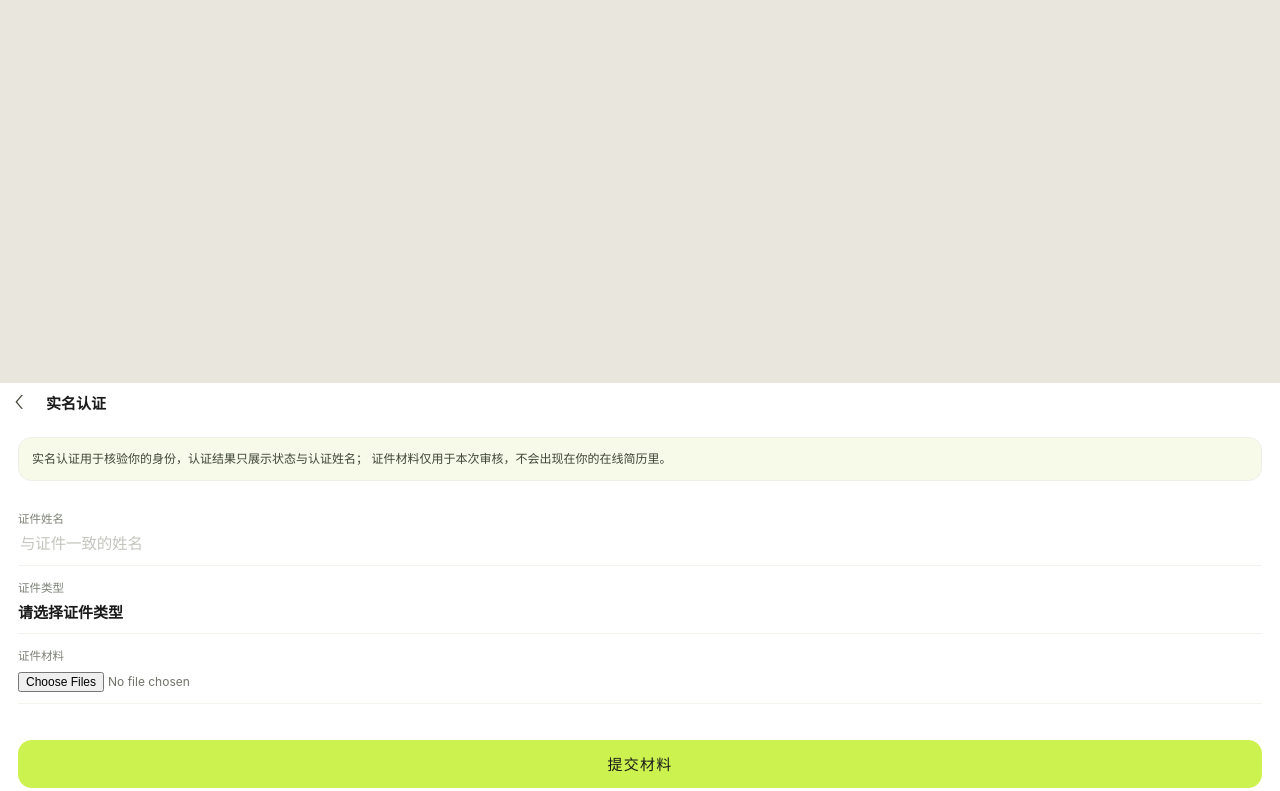
Test: 候选实名认证 · 读取态与四状态渲染 › unverified 是空姓名、空证件类型、空文件表单
This screenshot has width=1280, height=791.
(page scrolled)
Expected: the field named "证件姓名" is empty, [18, 533, 1262, 554]
Expected: the dropdown named "证件类型" shows "请选择证件类型", [18, 604, 1262, 621]
Note: 空表单提交走客户端校验，零 operation
Click the button "提交材料". click: x=640, y=764
box: [18, 740, 1262, 788]
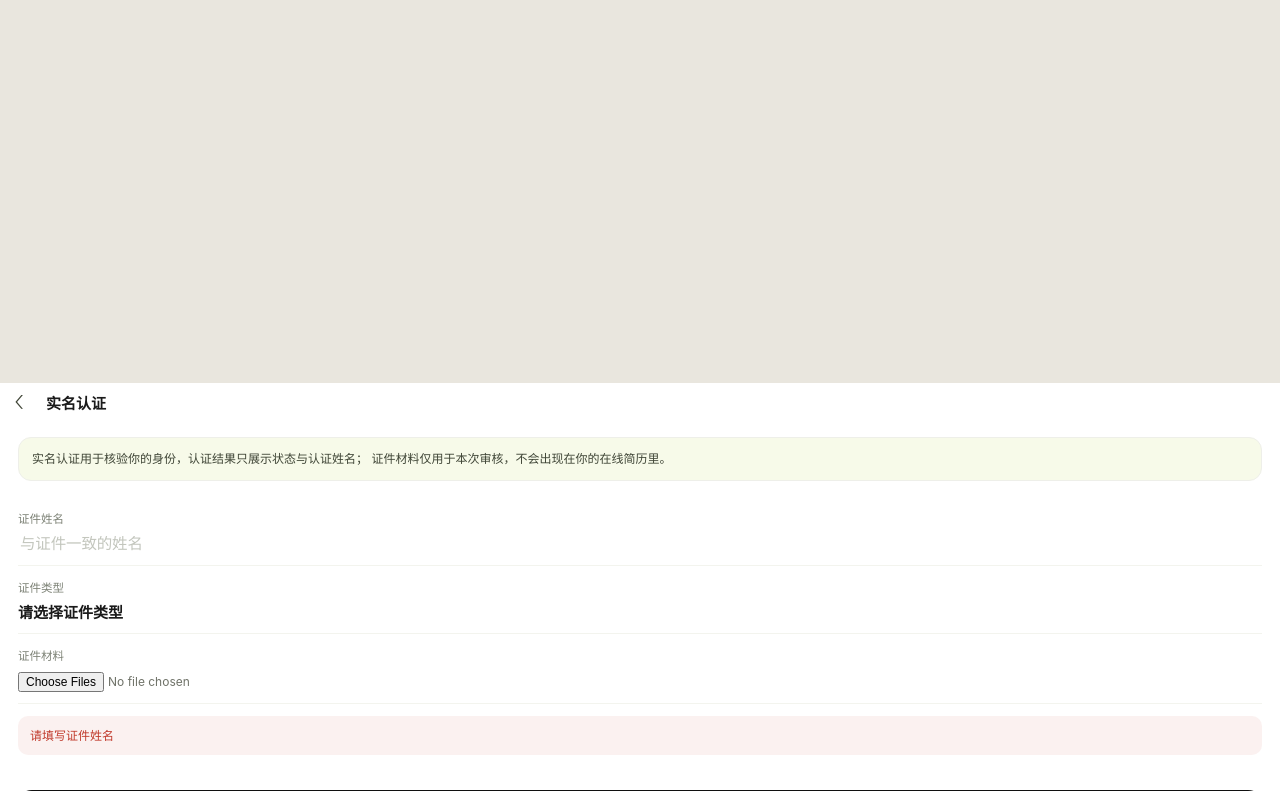
Expected: the message reads "请填写证件姓名", [30, 728, 114, 743]
